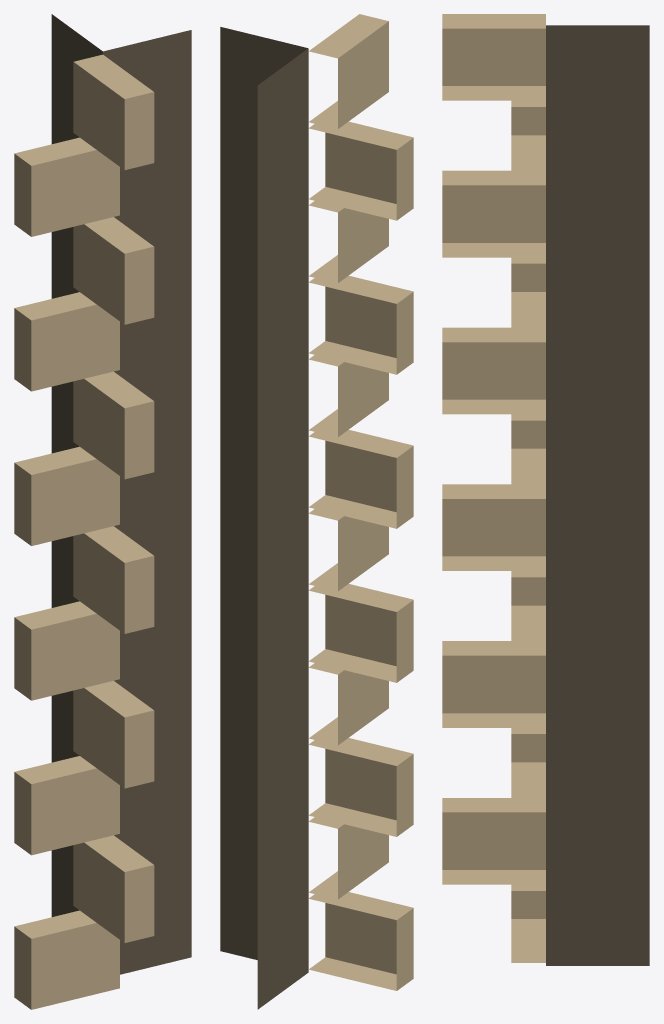
The model's file is mid-c1.fbx.
The picture shows the model from 3 angles, left to right: view 1: azimuth 30°, elevation 25°; view 2: azimuth 150°, elevation 25°; view 3: azimuth 270°, elevation 25°; orthographic projection.
Visible parts, largest first — view 1: a2015/400/mid-c1; view 2: a2015/400/mid-c1; view 3: a2015/400/mid-c1.
Boxes of the visible parts, x1=… form: a2015/400/mid-c1: x1=14, y1=14, x2=191, y2=1009; a2015/400/mid-c1: x1=220, y1=14, x2=413, y2=1009; a2015/400/mid-c1: x1=442, y1=14, x2=649, y2=965.
Bounding box in the file's own units: 0.6 × 3 × 0.6.
